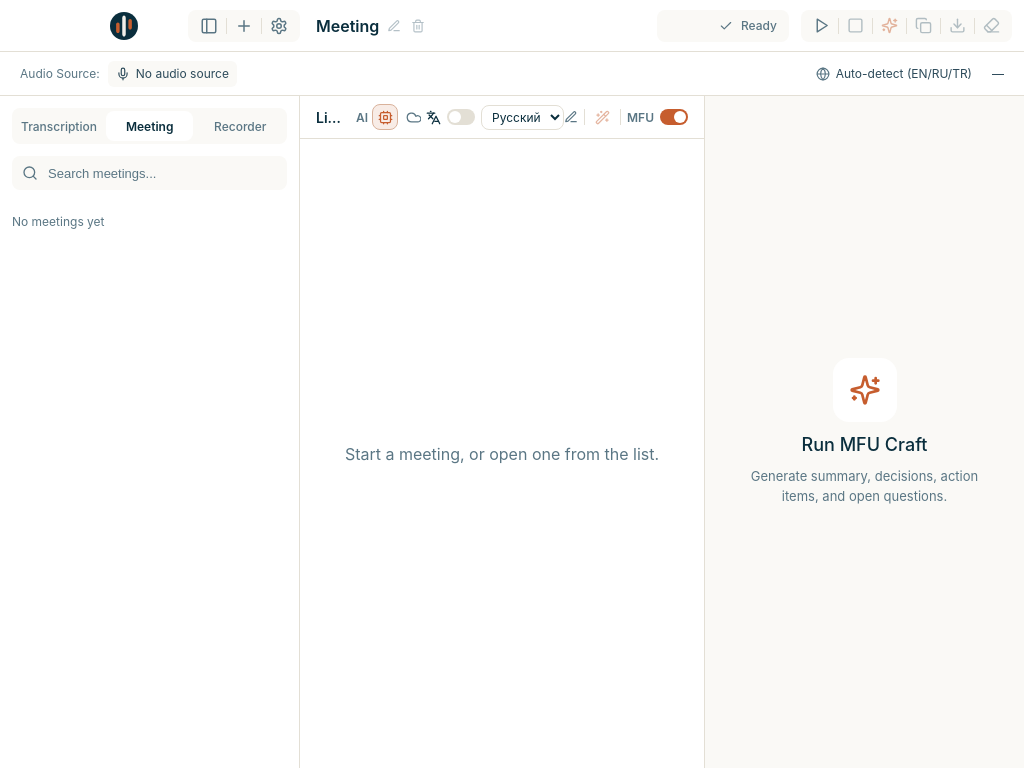
StreamingView — events › reports mixed mic + system audio sources
The image size is (1024, 768).
Click the button named "Start" at (822, 26), box [809,13,834,38]
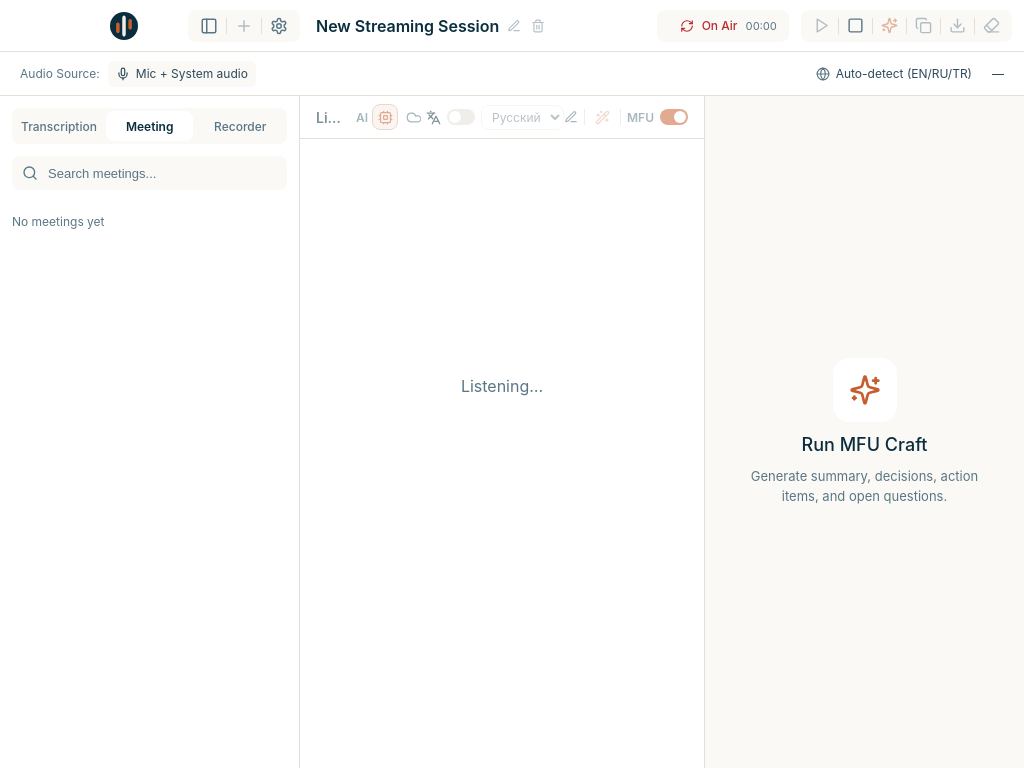
Check: the text "Mic + System audio" is shown, box [108,60,256,86]
